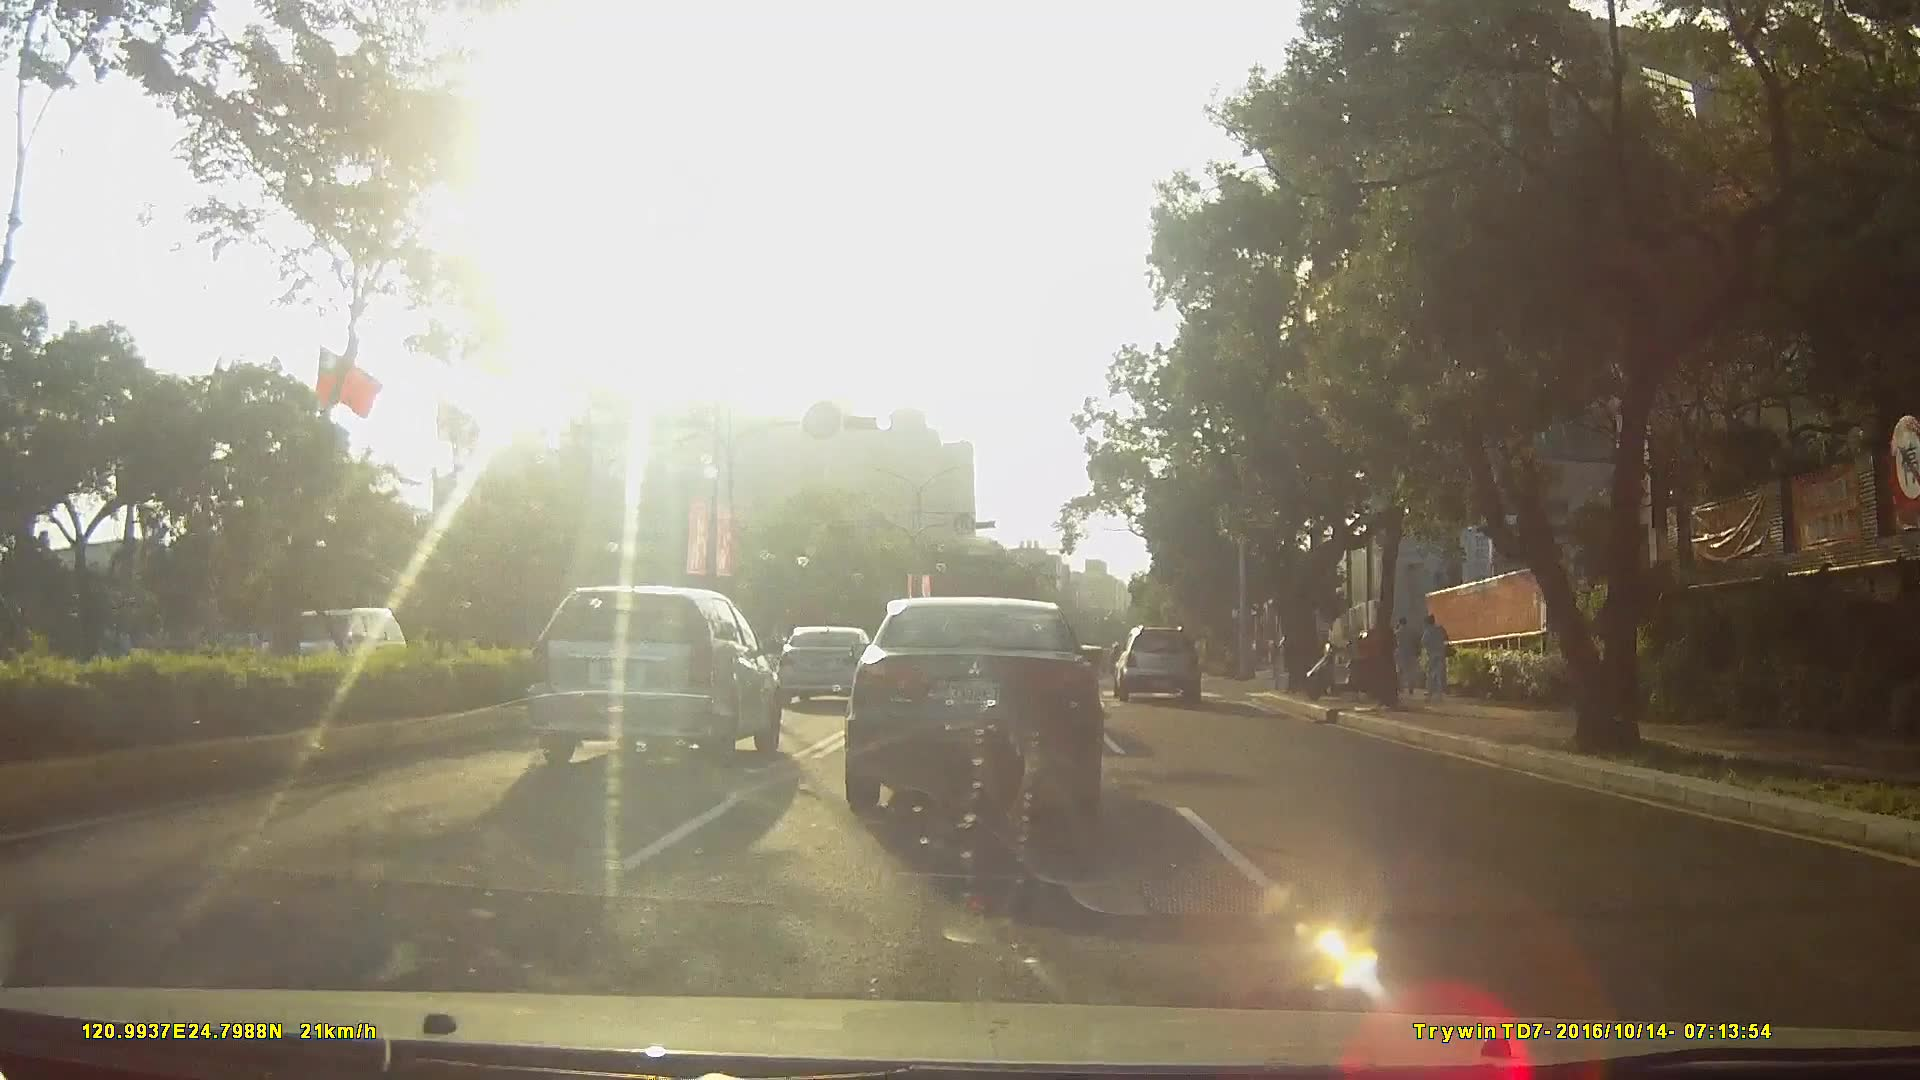pedestrian: (1419, 617, 1456, 706), (1397, 616, 1421, 695)
vehicle: (840, 596, 1105, 824), (521, 585, 780, 770), (257, 608, 412, 707), (774, 628, 876, 717), (1110, 624, 1210, 706)
